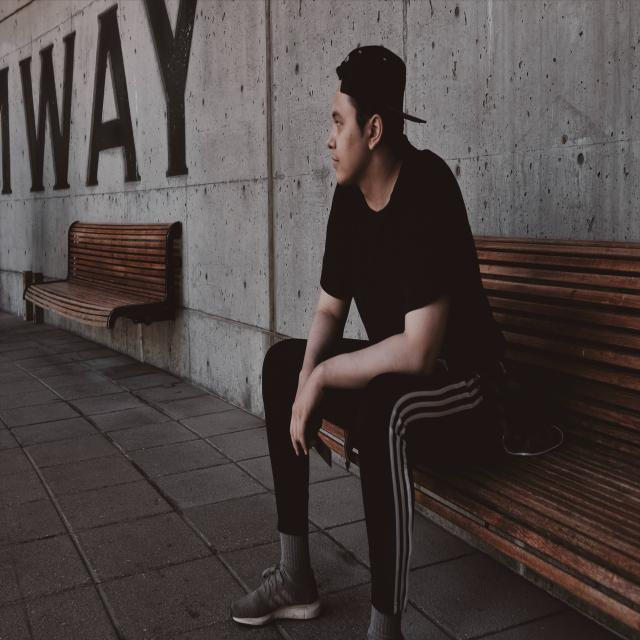nonfall: (268, 5, 508, 631)
